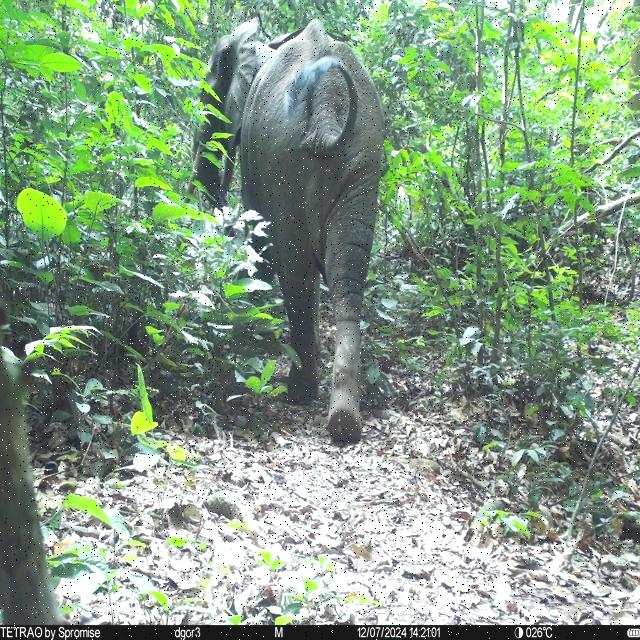ear: (211, 18, 259, 156)
elephant: (182, 19, 386, 446)
tusk: (183, 145, 206, 207), (221, 152, 235, 202)
